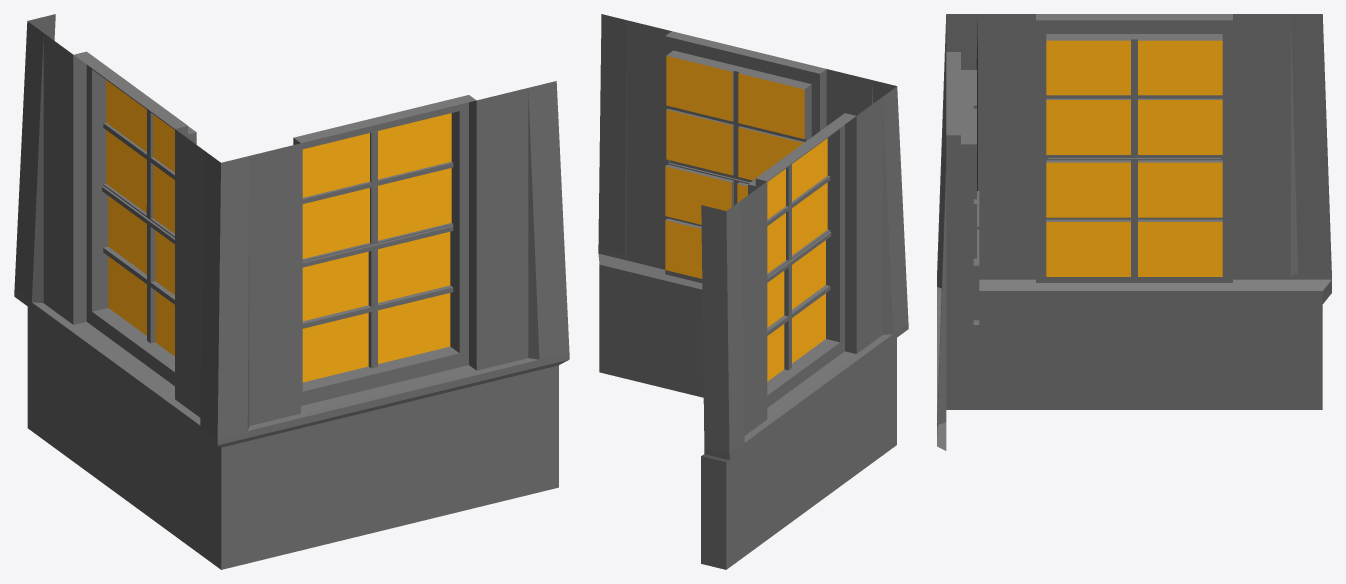
The model's file is O_Fenêtre_Avance_maison_Droite.fbx.
The picture shows the model from 3 angles, left to right: view 1: azimuth 30°, elevation 25°; view 2: azimuth 150°, elevation 25°; view 3: azimuth 270°, elevation 25°; orthographic projection. The views are drawn at different scales.
Visible parts, largest first — view 1: O_Fenêtre_Avance_maison_Droite; view 2: O_Fenêtre_Avance_maison_Droite; view 3: O_Fenêtre_Avance_maison_Droite.
Part boxes in pixels (x1,y1,x2,y2): O_Fenêtre_Avance_maison_Droite: (14,14,569,569); O_Fenêtre_Avance_maison_Droite: (598,14,908,569); O_Fenêtre_Avance_maison_Droite: (937,14,1331,450).
Size of the model in its own units: 2.72 by 2.72 by 3.01.
